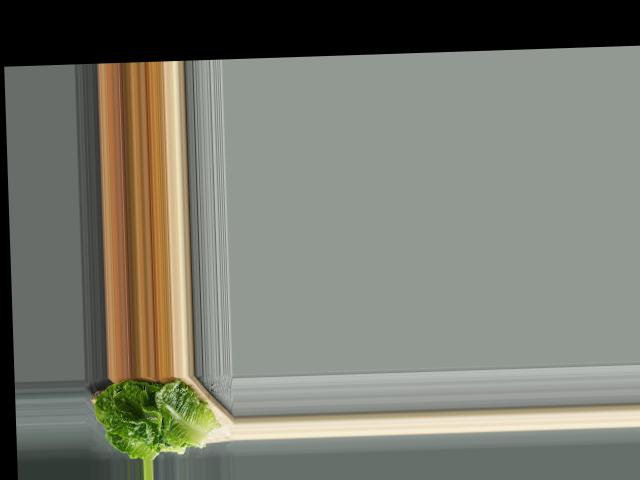lettuce: (89, 374, 217, 460)
